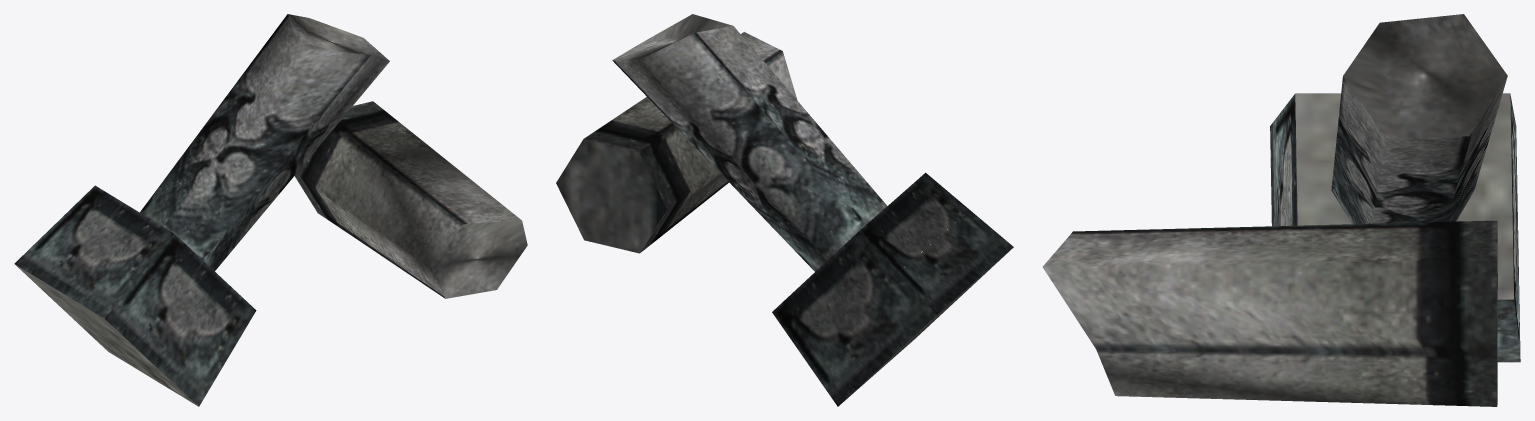
File: column-destr_01.obj
3 renders of one model, left to right at view 1: azimuth 30°, elevation 25°; view 2: azimuth 150°, elevation 25°; view 3: azimuth 270°, elevation 25°, orthographic. The views are drawn at different scales.
Parts seen in each view (by area): view 1: (null); view 2: (null); view 3: (null).
Part boxes in pixels (bbox=[...]): (null): bbox=[14, 14, 527, 406]; (null): bbox=[556, 14, 1013, 406]; (null): bbox=[1042, 14, 1520, 406].
Bounding box in the file's own units: 1.79 × 1.41 × 1.32.
